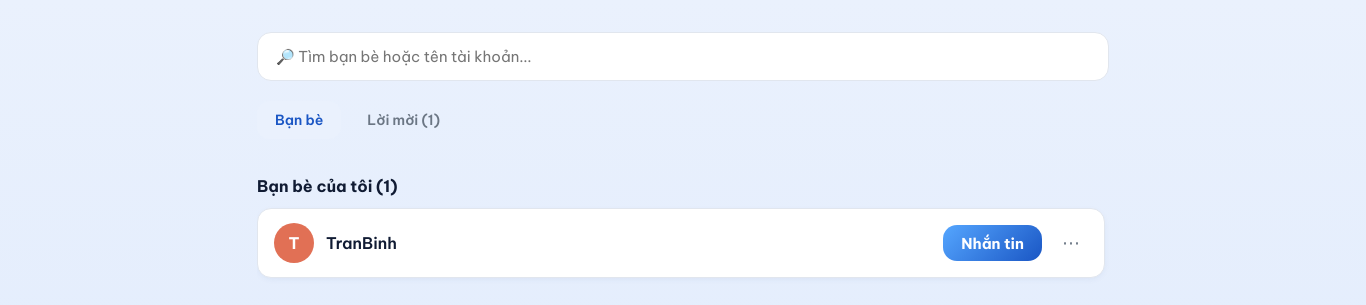
Test: TrangBanBe › chuyen sang tab Loi moi hien dung danh sach loi moi den
Check: the text "TranBinh" is shown, box 326,233 -> 397,253
Step 1. Click the button "Lời mời (1)" → (404, 120), box 349,101 -> 458,139
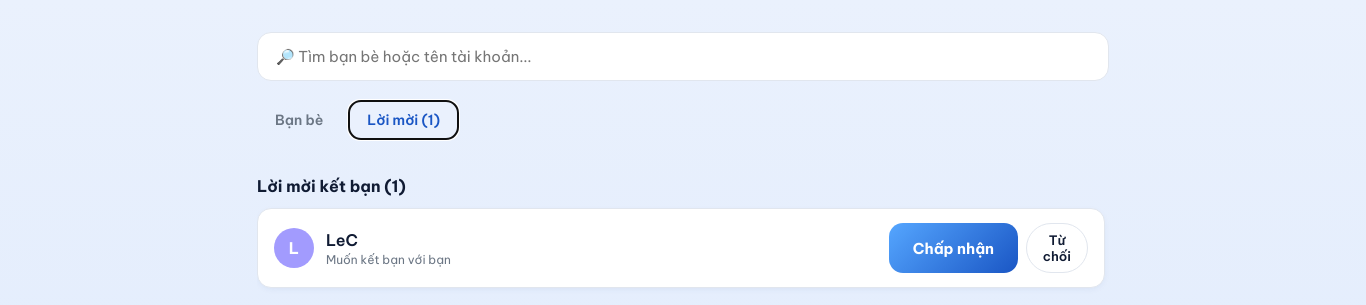
Check: the heading "Lời mời kết bạn (1)" is shown, box 257,176 -> 406,196
Check: the text "LeC" is shown, box 326,230 -> 358,250
Check: the text "Muốn kết bạn với bạn" is shown, box 326,252 -> 451,267
